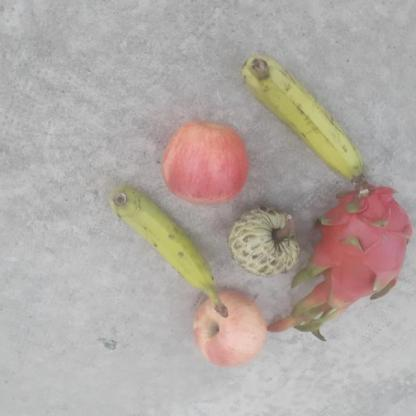annona: (226, 202, 302, 278)
apple: (162, 119, 251, 207), (192, 287, 270, 370)
banana: (240, 50, 364, 184), (108, 184, 231, 317)
pitaya: (306, 180, 416, 310)
